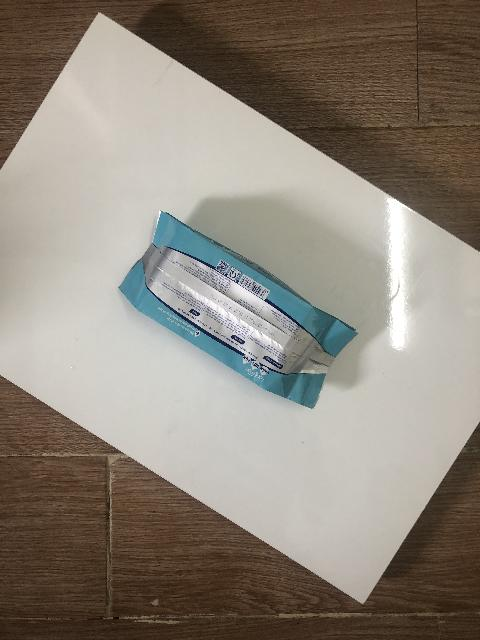Let-green_alcohol_wipes: (119, 209, 358, 407)
